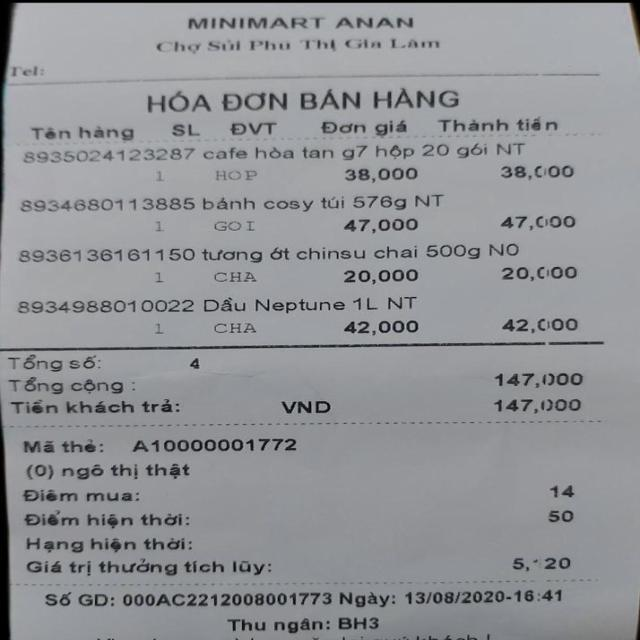Date: (405, 586, 508, 608)
Store_Name: (173, 2, 432, 35)
amount_number: (488, 367, 588, 390)
label_total: (9, 374, 137, 396)
